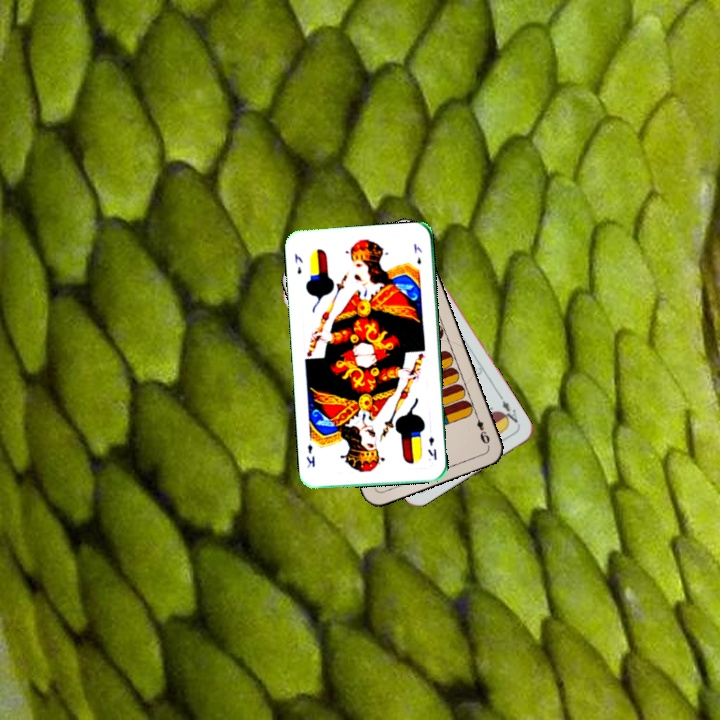E9: (471, 409, 492, 448)
EA: (496, 392, 522, 428)
EK: (424, 433, 439, 463), (291, 249, 305, 277)
